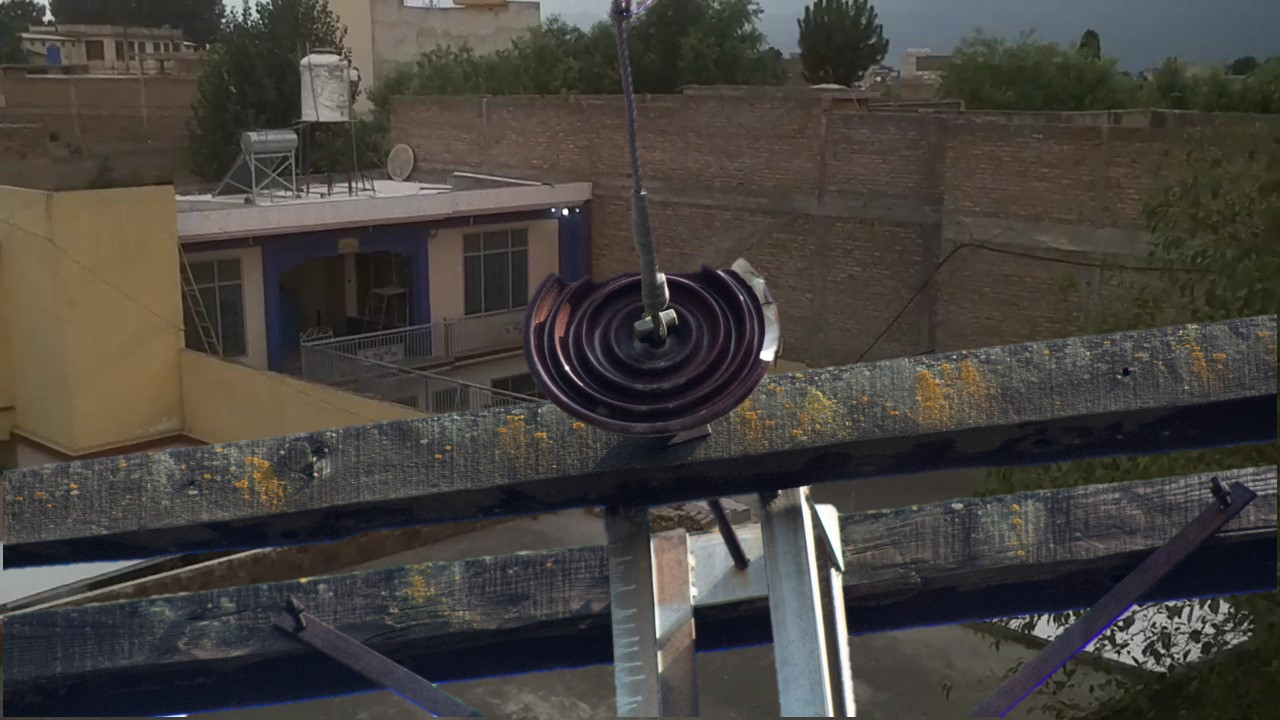defect_disc: (520, 250, 788, 437)
